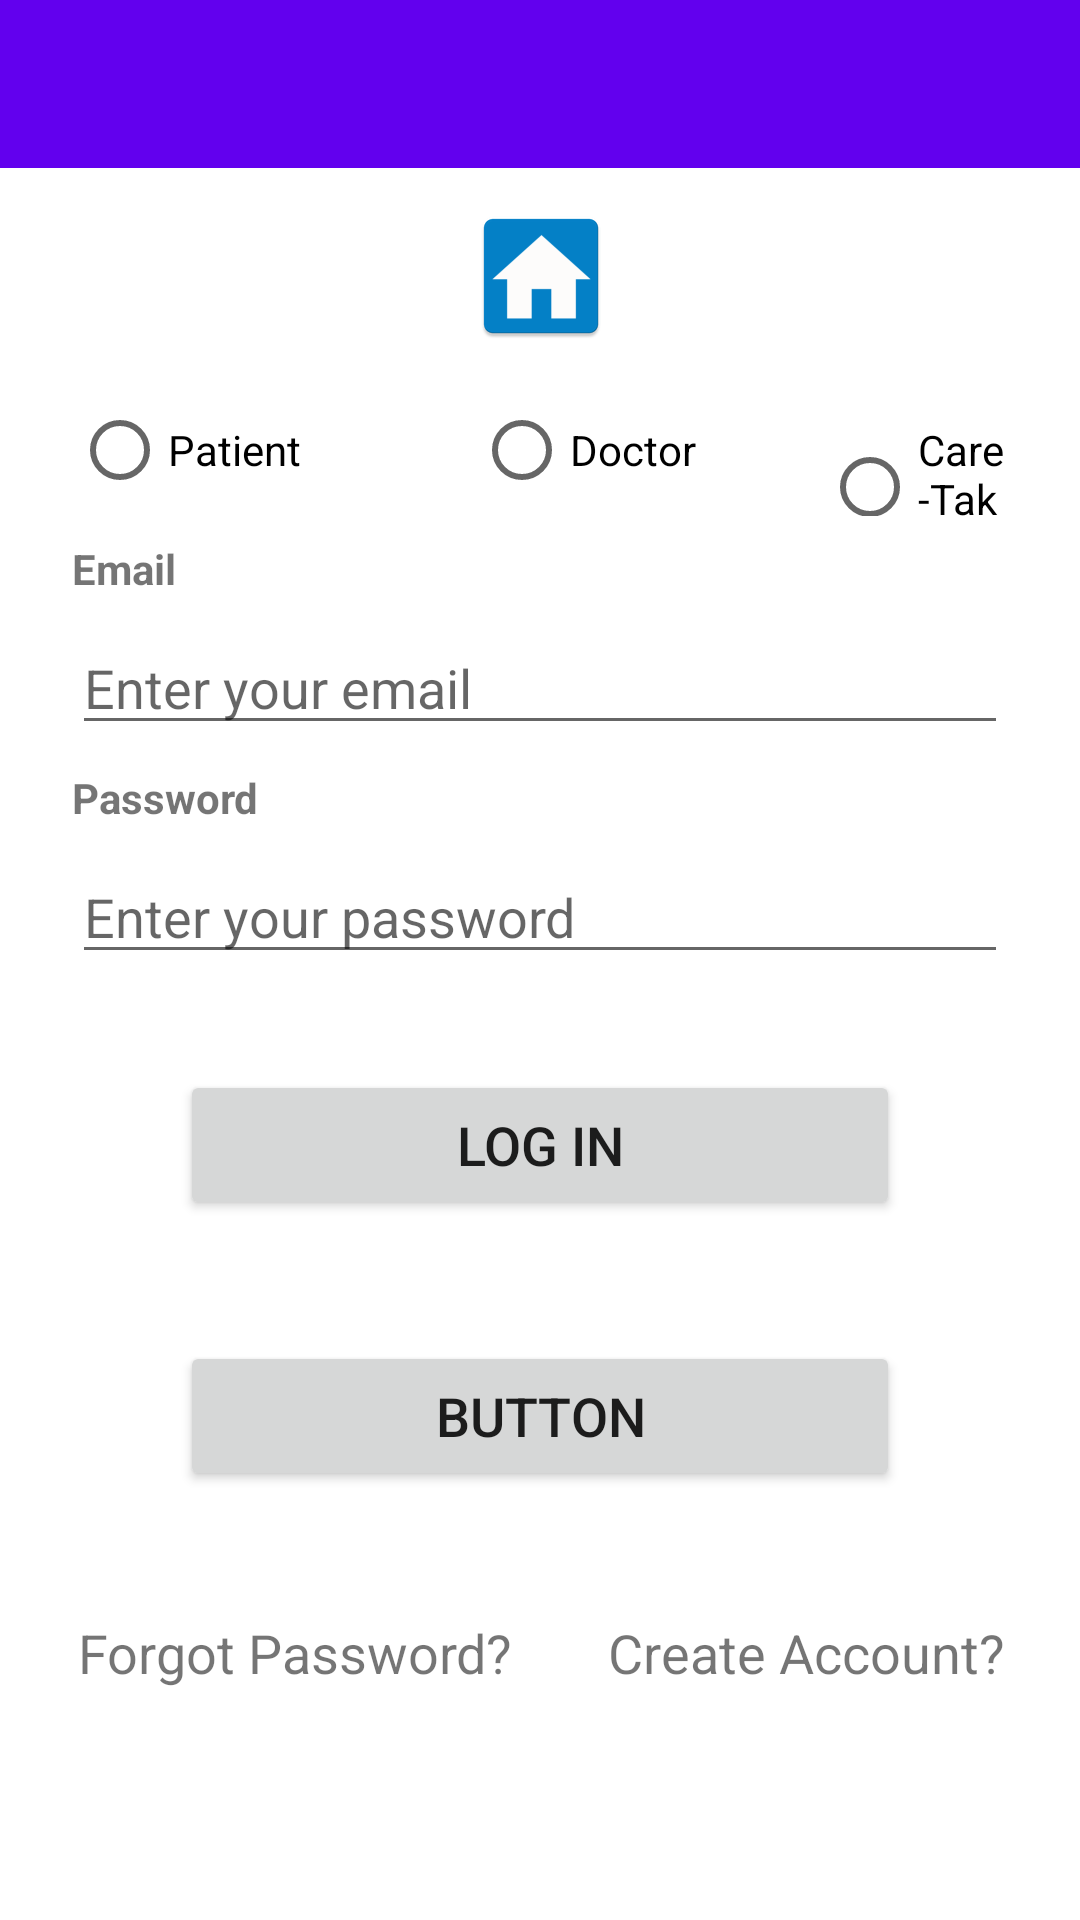

Icons on this 1080 × 1920 Android screen, each with its box as (x1, y1, x2, y2):
home: (483, 218, 599, 337)
